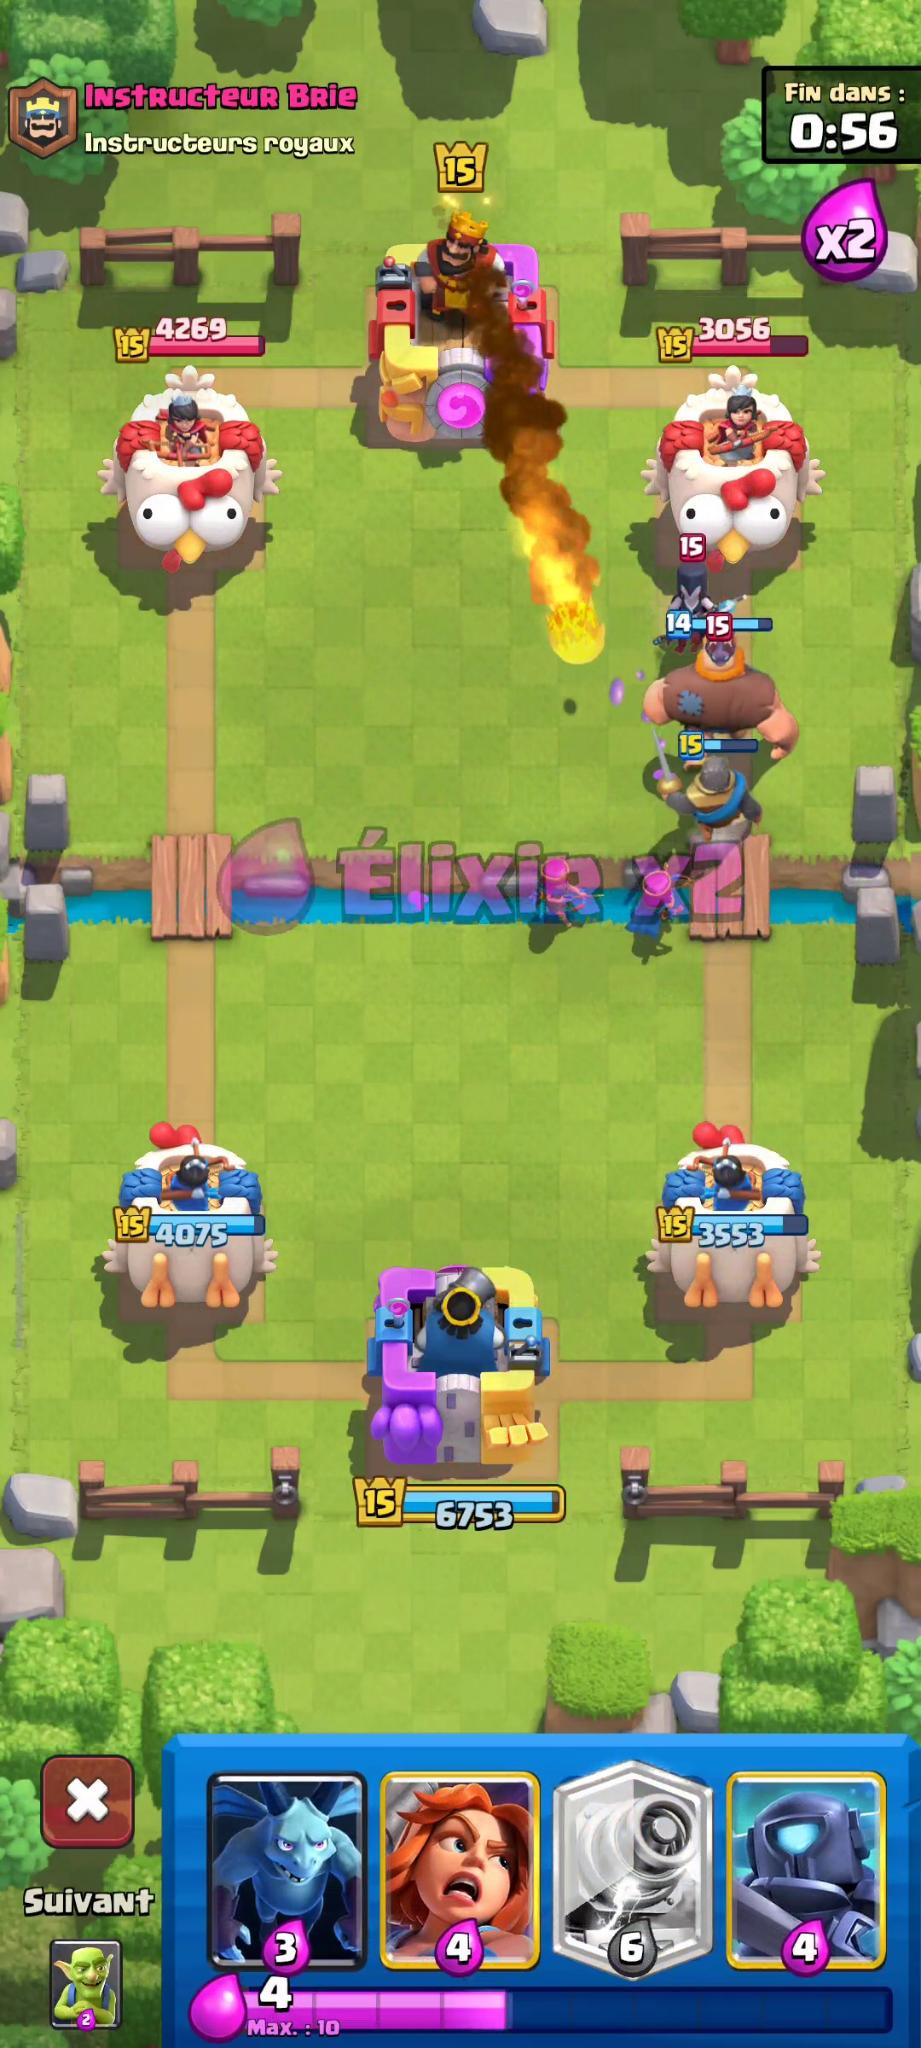bat: (703, 630, 745, 667)
chevalier: (626, 741, 796, 874)
geant: (648, 633, 820, 785)
